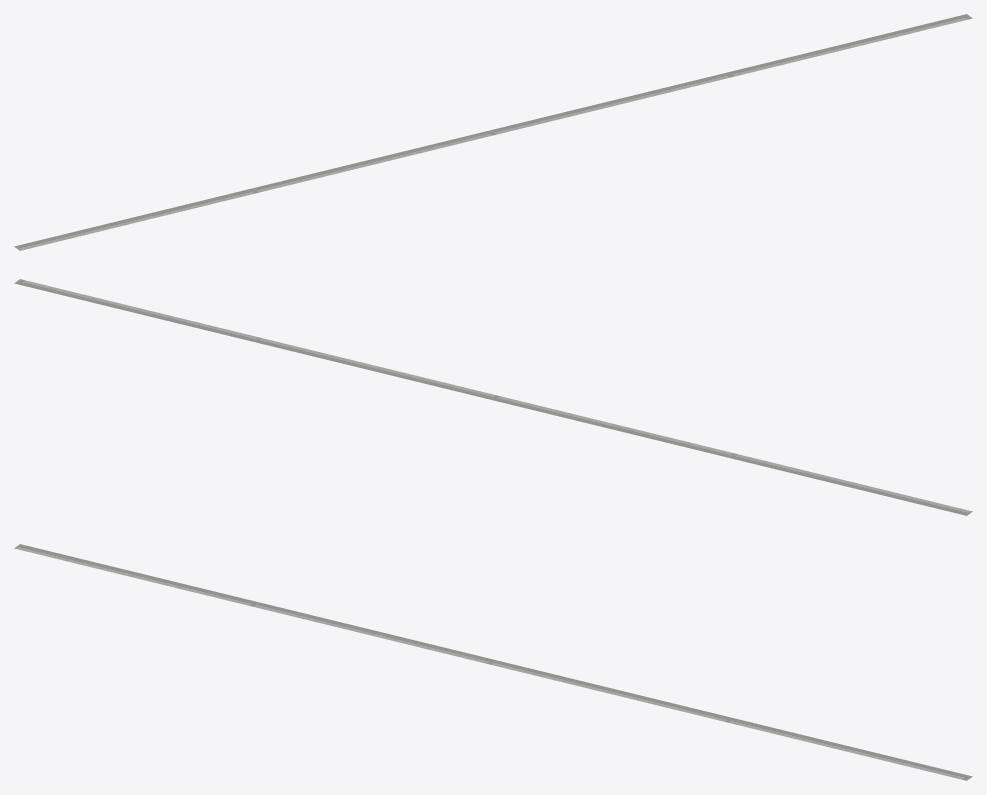
File: kd_stage_135ded_4_129_exterior_piece_1.glb
The picture shows the model from 3 angles, top to bottom: view 1: azimuth 30°, elevation 25°; view 2: azimuth 150°, elevation 25°; view 3: azimuth 330°, elevation 25°; orthographic projection.
Parts seen in each view (by area): view 1: kd_stage_135ded_4_129_exterior_piece_1; view 2: kd_stage_135ded_4_129_exterior_piece_1; view 3: kd_stage_135ded_4_129_exterior_piece_1.
Part boxes in pixels (x1,y1,x2,y2): kd_stage_135ded_4_129_exterior_piece_1: (14, 14, 972, 250); kd_stage_135ded_4_129_exterior_piece_1: (14, 279, 972, 515); kd_stage_135ded_4_129_exterior_piece_1: (14, 544, 972, 780).
Bounding box in the file's own units: 4.53 × 7.45e-09 × 0.05.
Materials: 1 (1 with a texture image).
